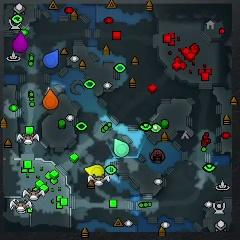p1: (43, 50, 58, 68)
p2: (114, 138, 129, 157)
p3: (13, 33, 27, 52)
p4: (85, 164, 104, 180)
p5: (43, 91, 59, 109)
